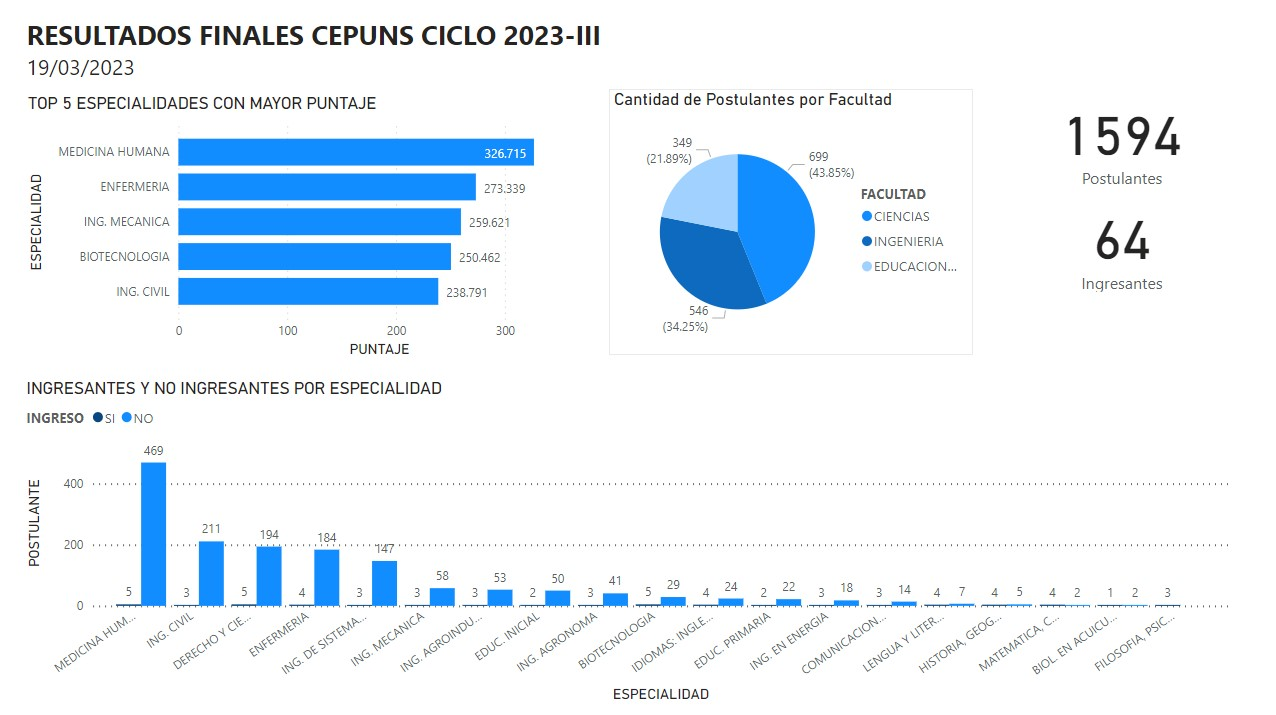

The dashboard page shown, as its layout file describes it:
{"tool":"powerbi","page":{"name":"Página 1","canvas":[1280,720],"ordinal":0},"visuals":[{"type":"textbox","box":[23,12.9,642.3,77.6],"z":0},{"type":"clusteredColumnChart","title":"INGRESANTES Y NO INGRESANTES POR ESPECIALIDAD","fields":{"Category":["Resultados_Finales_Cepuns.ESPECIALIDAD"],"Y":["CountNonNull(Resultados_Finales_Cepuns.CODIGO)"],"Series":["Resultados_Finales_Cepuns.INGRESO"]},"box":[22.5,378.8,1212.5,328.8],"z":1000},{"type":"clusteredBarChart","title":"TOP 5 ESPECIALIDADES CON MAYOR PUNTAJE","fields":{"Category":["Resultados_Finales_Cepuns.ESPECIALIDAD"],"Y":["Max(Resultados_Finales_Cepuns.EXAMEN (E))"]},"box":[24,93.2,573.1,269.6],"z":2000},{"type":"pieChart","title":"Cantidad de Postulantes por Facultad","fields":{"Y":["CountNonNull(Resultados_Finales_Cepuns.CODIGO)"],"Category":["Resultados_Finales_Cepuns.FACULTAD"]},"box":[610,90,363.8,266.2],"z":4000},{"type":"card","fields":{"Values":["CountNonNull(Resultados_Finales_Cepuns.CODIGO)"]},"box":[1025,90,196.2,101.2],"z":5000},{"type":"card","fields":{"Values":["CountNonNull(Resultados_Finales_Cepuns.INGRESO)"]},"box":[1025,191.2,196.2,106.2],"z":6000}]}

Visuals, with their boxes in screenshot pixels (x1, y1, x2, y2), scaled from the page's 1280x720 canvas onto the 1276x715 screenshot:
textbox: box(23, 13, 663, 90)
"INGRESANTES Y NO INGRESANTES POR ESPECIALIDAD" clusteredColumnChart: box(22, 376, 1231, 703)
"TOP 5 ESPECIALIDADES CON MAYOR PUNTAJE" clusteredBarChart: box(24, 93, 595, 360)
"Cantidad de Postulantes por Facultad" pieChart: box(608, 89, 971, 354)
card - CountNonNull(Resultados_Finales_Cepuns.CODIGO): box(1022, 89, 1217, 190)
card - CountNonNull(Resultados_Finales_Cepuns.INGRESO): box(1022, 190, 1217, 295)
